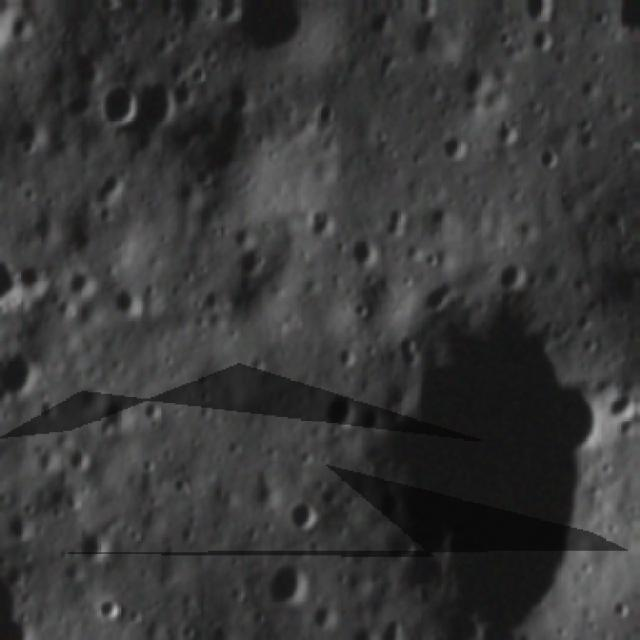crater: (388, 303, 635, 635), (225, 0, 313, 46), (262, 548, 318, 603), (0, 342, 46, 400), (324, 369, 365, 429), (140, 72, 182, 130), (98, 72, 140, 128), (104, 387, 145, 430), (458, 58, 502, 98), (349, 225, 394, 261), (77, 522, 118, 560), (19, 248, 55, 289), (496, 249, 533, 286), (503, 0, 555, 25), (442, 126, 478, 162), (532, 136, 568, 170), (313, 92, 342, 130), (614, 0, 640, 42), (292, 496, 326, 527), (67, 437, 95, 472), (103, 593, 131, 621), (92, 0, 136, 9)
